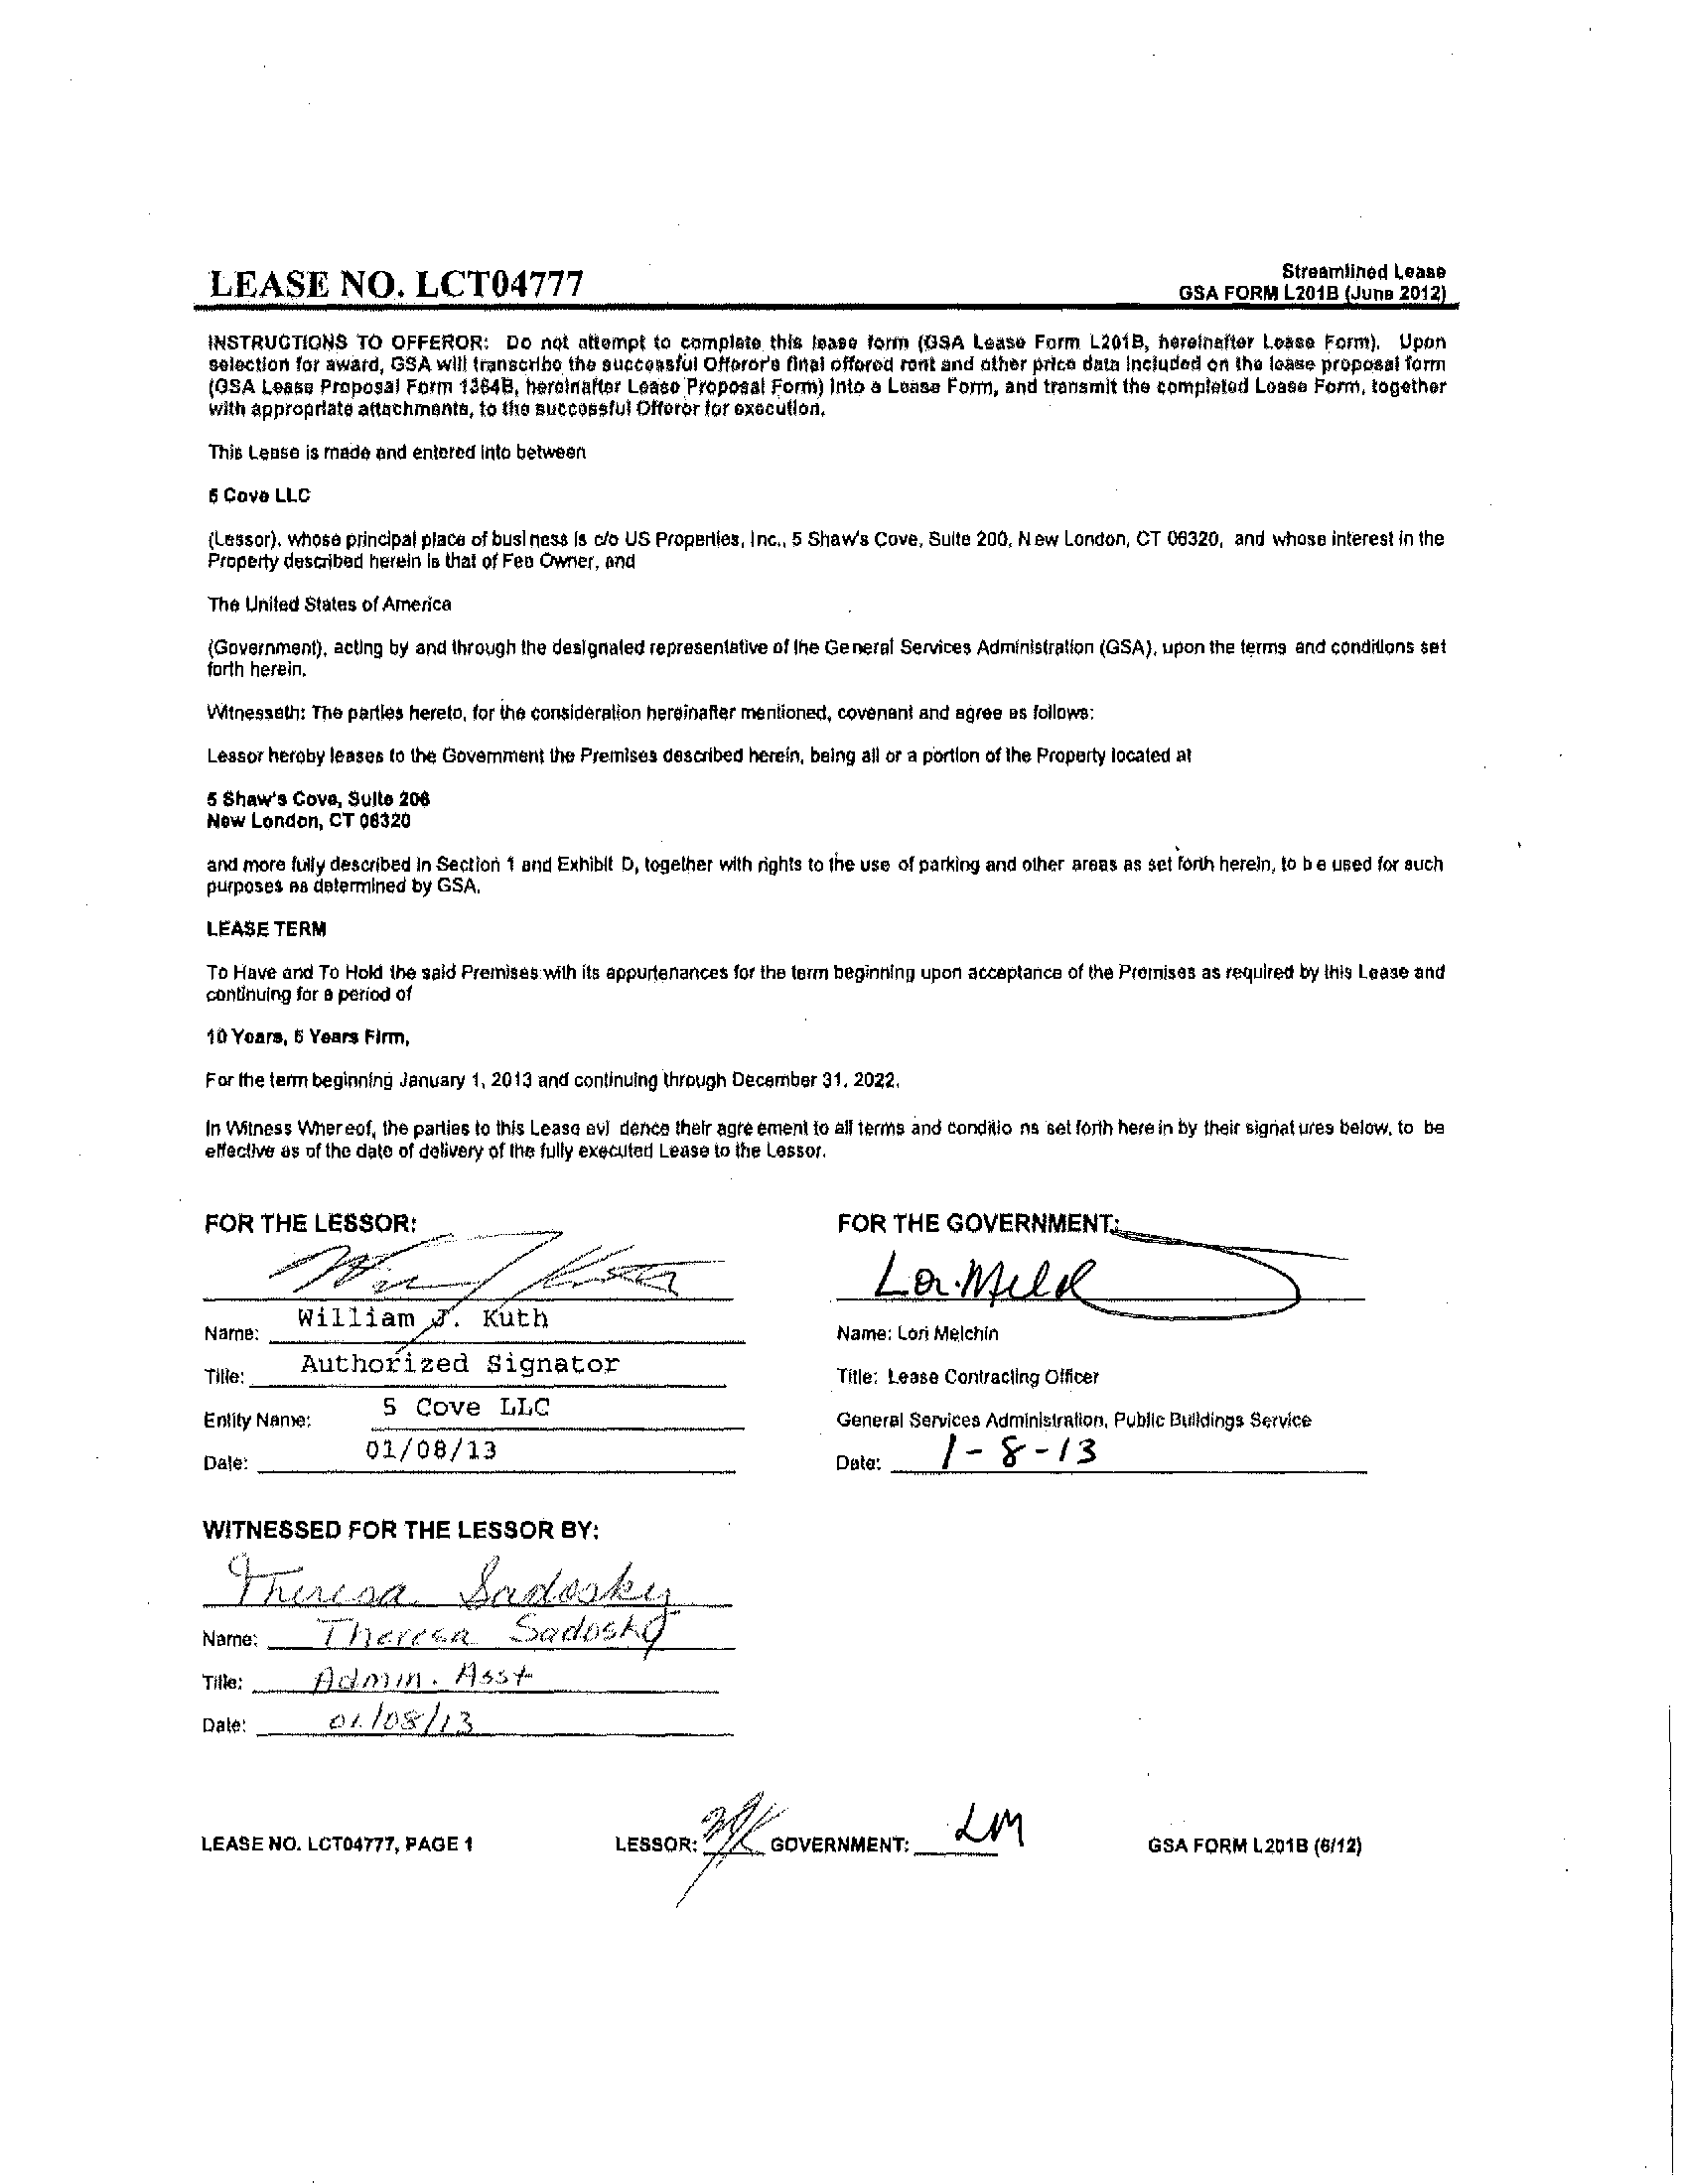handwritten: (840, 1227, 1319, 1328), (259, 1234, 746, 1303), (227, 1551, 695, 1610), (300, 1601, 683, 1665), (305, 1649, 566, 1698), (920, 1423, 1135, 1471), (697, 1785, 787, 1884), (936, 1782, 1030, 1856), (324, 1705, 520, 1741)
